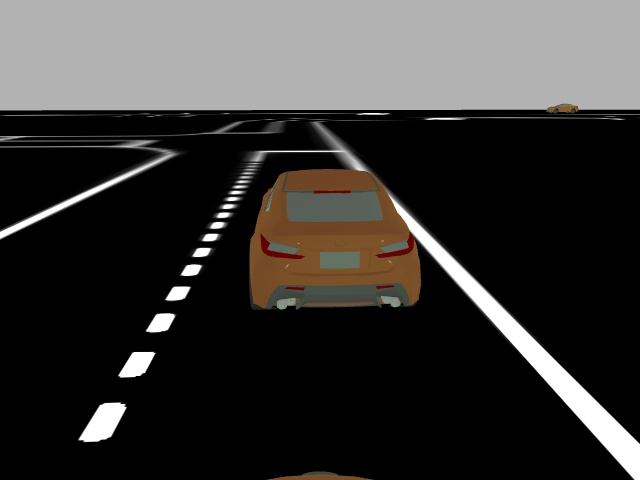obstacle_car: (245, 168, 426, 315)
